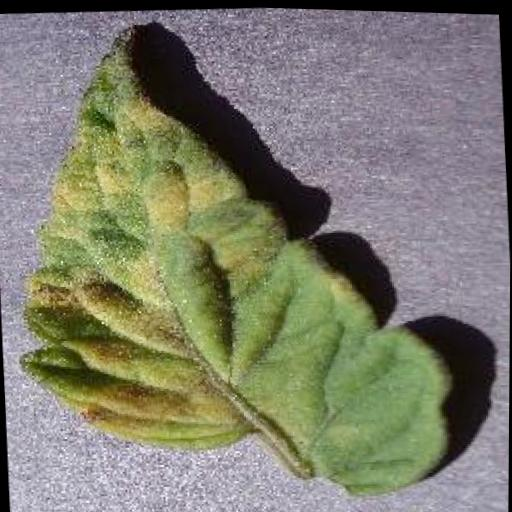Leaf Mold: (1, 8, 454, 512)
